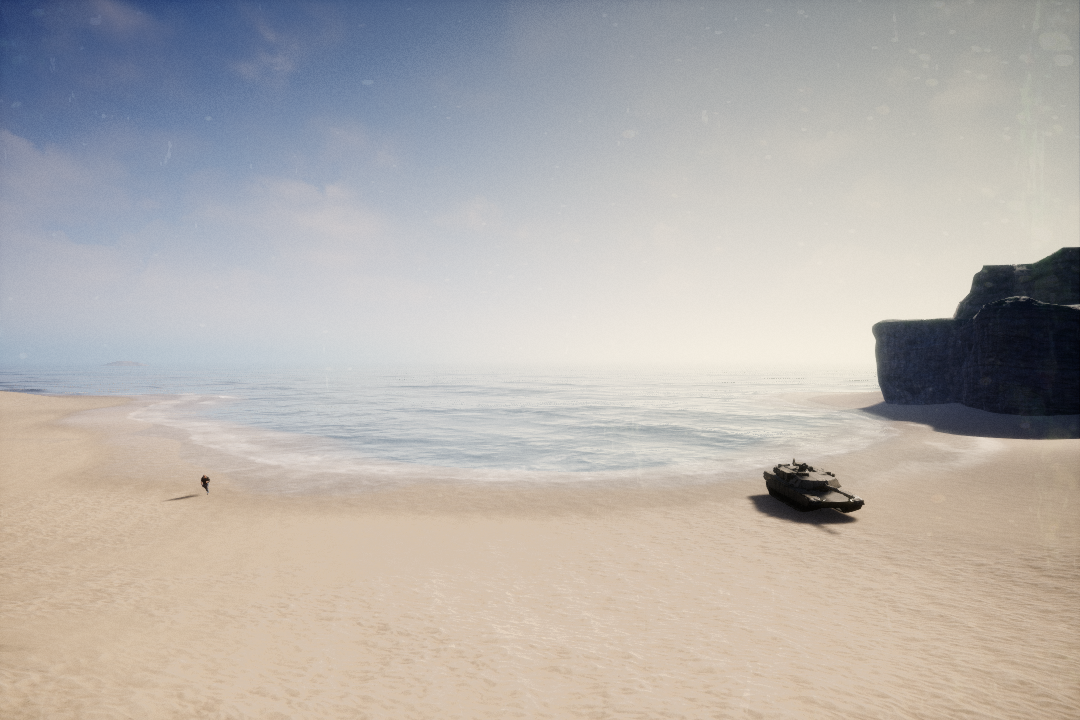person: (198, 473, 216, 496)
tank: (758, 454, 868, 523)
